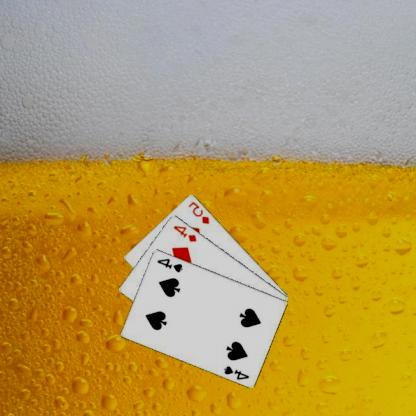4D: (172, 223, 200, 243)
4S: (156, 255, 186, 274), (223, 363, 252, 381)
5D: (188, 199, 212, 225)
